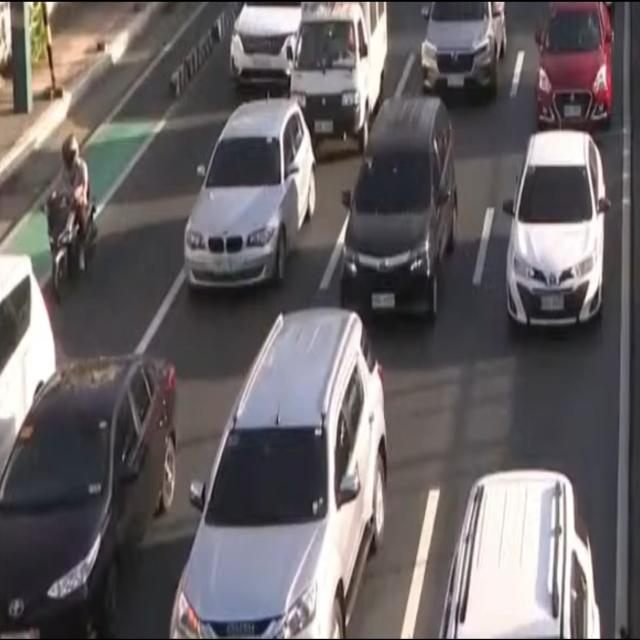Motorcycle: (41, 132, 97, 299)
Pick-up: (283, 3, 389, 150)
SUV: (171, 309, 386, 640), (439, 469, 600, 640), (339, 101, 458, 330), (227, 0, 304, 84)
Sedan: (1, 360, 178, 640), (184, 101, 318, 293), (503, 133, 609, 332), (527, 0, 615, 124), (419, 0, 508, 98)
